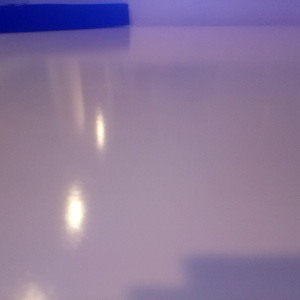zone: (1, 4, 130, 33)
